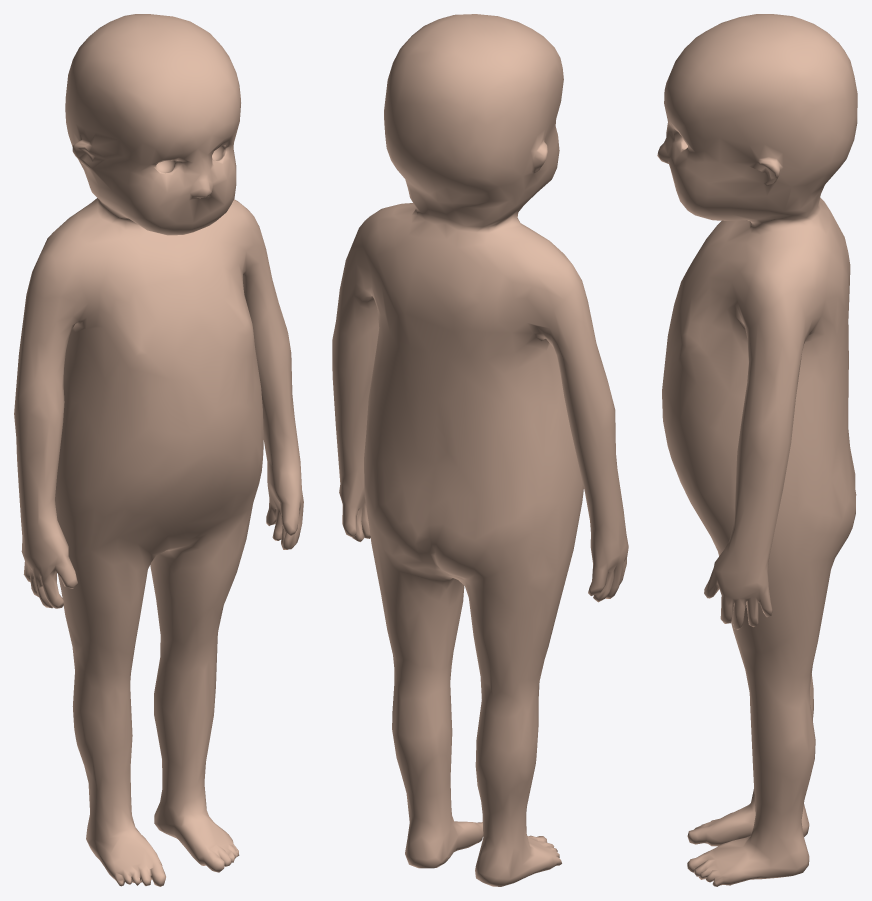
The model's file is pediatric_infant_female.surface.LOD2.glb.
3 views of the same model, side by side, from view 1: azimuth 30°, elevation 25°; view 2: azimuth 150°, elevation 25°; view 3: azimuth 270°, elevation 25° (orthographic). The views are drawn at different scales.
Visible parts, largest first — view 1: PEDIATRIC.INFANT.FEMALE.SURFACE.SKIN; view 2: PEDIATRIC.INFANT.FEMALE.SURFACE.SKIN; view 3: PEDIATRIC.INFANT.FEMALE.SURFACE.SKIN.
Boxes of the visible parts, bbox=[...] form: PEDIATRIC.INFANT.FEMALE.SURFACE.SKIN: bbox=[14, 14, 303, 886]; PEDIATRIC.INFANT.FEMALE.SURFACE.SKIN: bbox=[332, 14, 628, 886]; PEDIATRIC.INFANT.FEMALE.SURFACE.SKIN: bbox=[657, 14, 857, 886].
Size of the model in its own units: 0.2614 by 0.7597 by 0.1657.
